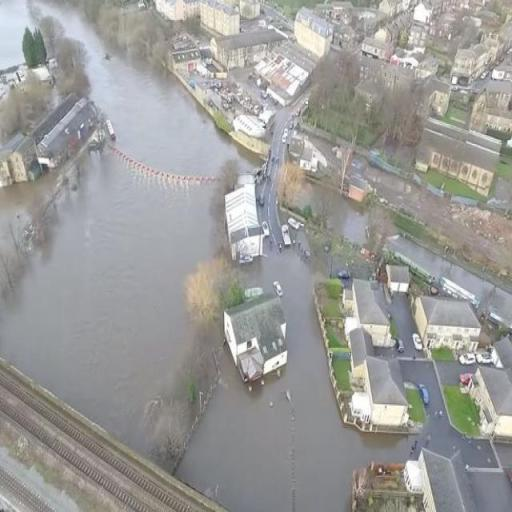flood: (0, 149, 224, 454), (176, 250, 410, 512), (40, 3, 260, 175), (0, 0, 30, 65), (329, 190, 366, 241)
house: (416, 116, 503, 200), (221, 284, 290, 383), (26, 89, 100, 173), (253, 44, 321, 102), (220, 176, 266, 258), (414, 294, 480, 351), (476, 364, 512, 438), (292, 9, 335, 59), (193, 0, 244, 39), (453, 42, 485, 84), (361, 26, 392, 62), (382, 260, 412, 294)
